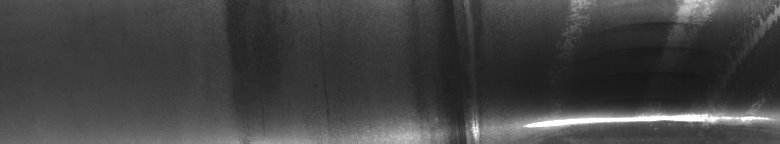ke: (244, 4, 776, 136)
